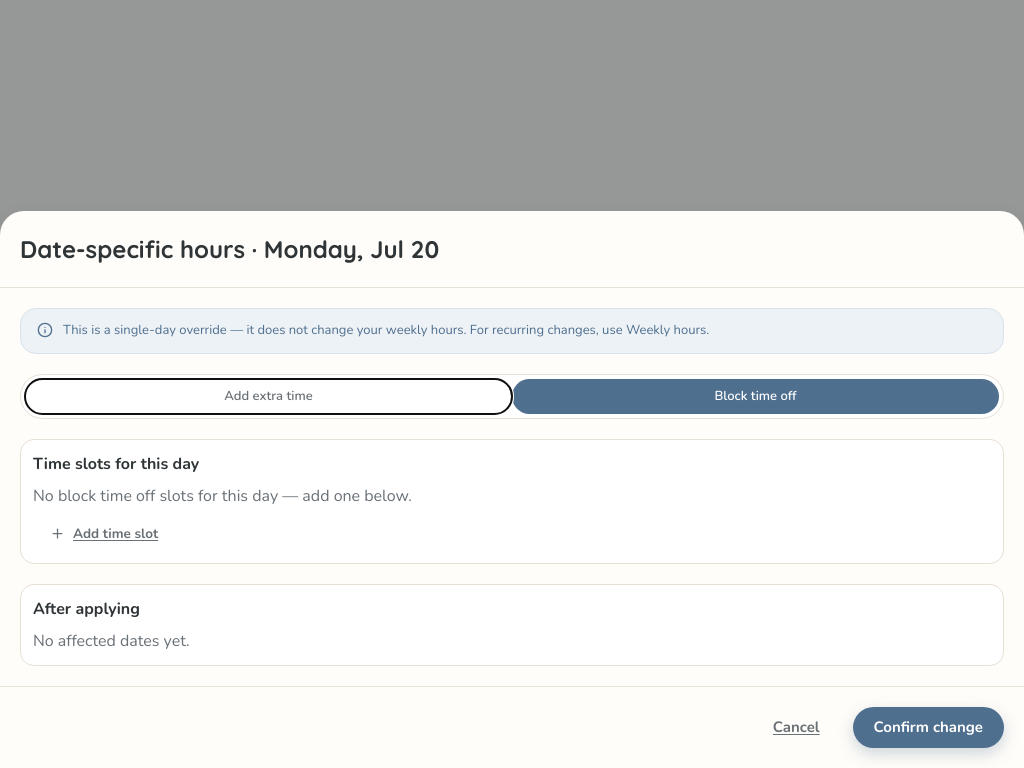
Scenario: DateOverrideModal — add / remove / clear slots › '+ Add time slot' adds a row; the row default is 9:00 AM–10:00 AM
Click the button "Add time slot".
click(104, 534)  # box [33, 516, 175, 551]
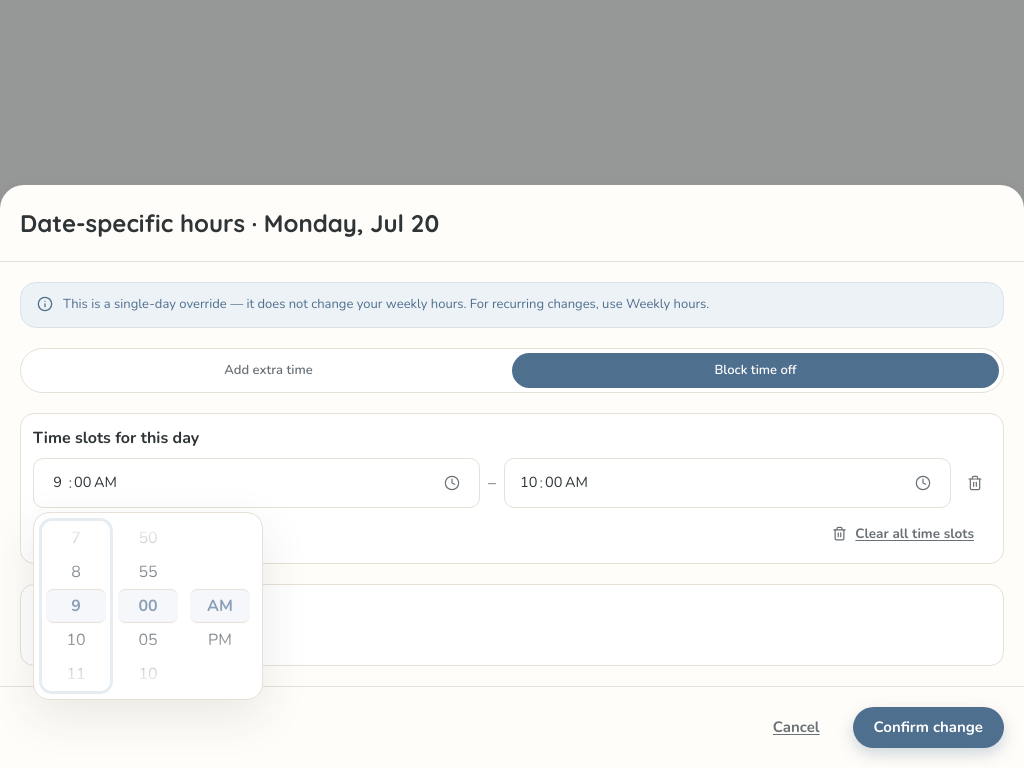
Expected: the number of elements ": – :" is 1, [33, 458, 991, 508]
Expected: the field named "Time slot 1 from hour" holds "9", [49, 472, 66, 494]
Expected: the field named "Time slot 1 to hour" holds "10", [520, 472, 537, 494]
